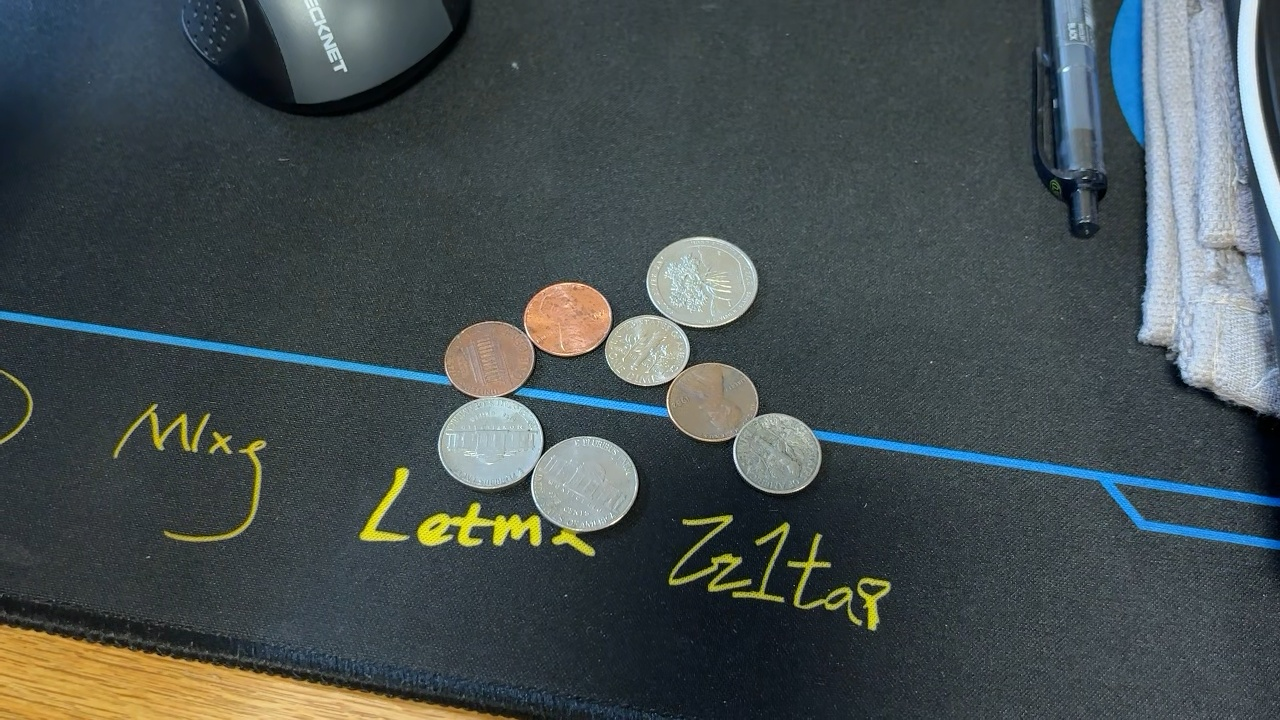dime: (734, 410, 823, 495), (605, 315, 692, 387)
nickel: (436, 394, 547, 489), (531, 436, 640, 532)
penny: (666, 359, 762, 445), (524, 277, 612, 358), (441, 319, 534, 395)
quarter: (645, 237, 760, 329)
